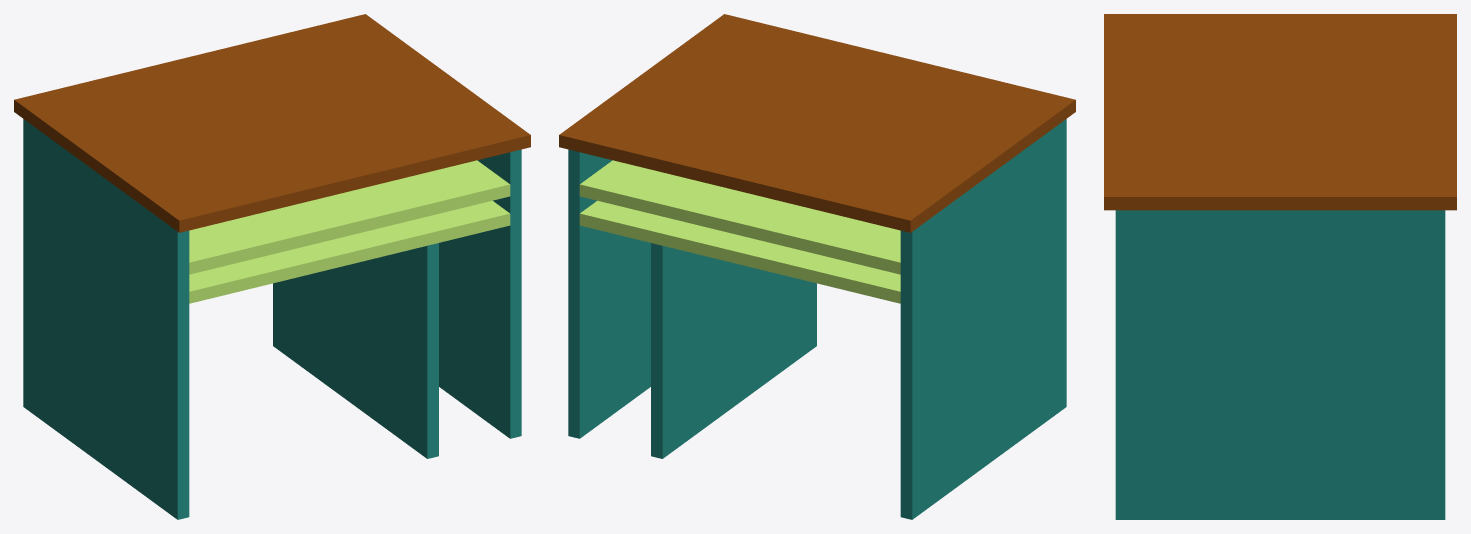
Rendered from desk2.fbx.
The picture shows the model from 3 angles, left to right: view 1: azimuth 30°, elevation 25°; view 2: azimuth 150°, elevation 25°; view 3: azimuth 270°, elevation 25°; orthographic projection. The views are drawn at different scales.
Parts seen in each view (by area): view 1: Box002; view 2: Box002; view 3: Box002.
Part boxes in pixels (bbox=[...]): Box002: bbox=[14, 14, 530, 519]; Box002: bbox=[559, 14, 1075, 519]; Box002: bbox=[1104, 14, 1456, 519].
Size of the model in its own units: 91.98 by 76.07 by 74.9.
